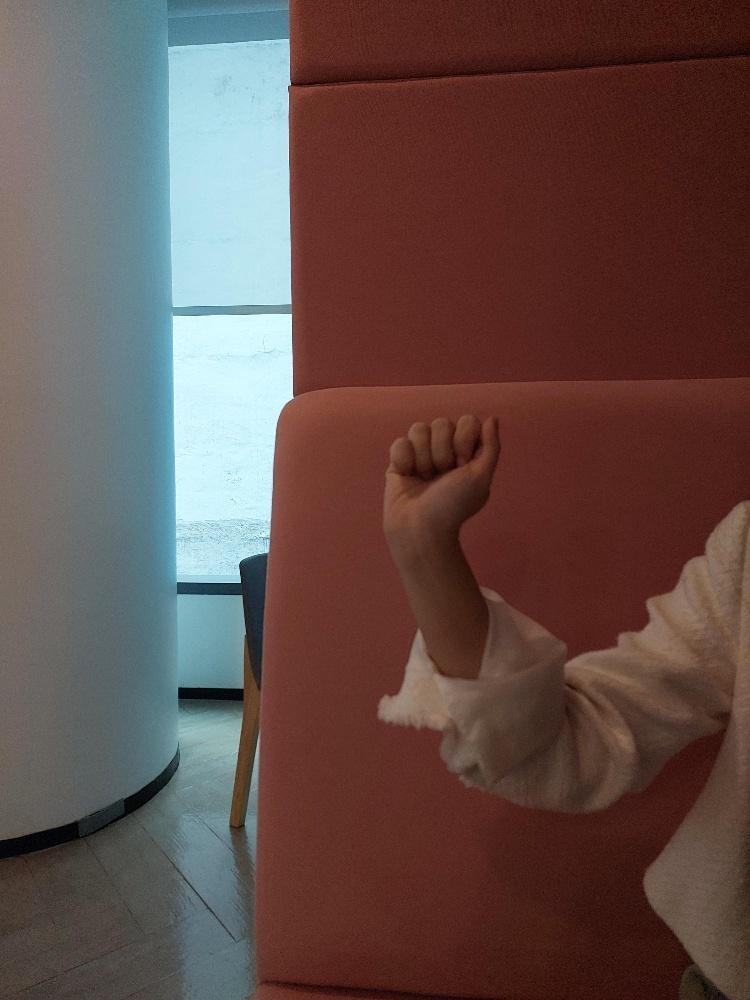a: (381, 412, 501, 525)
